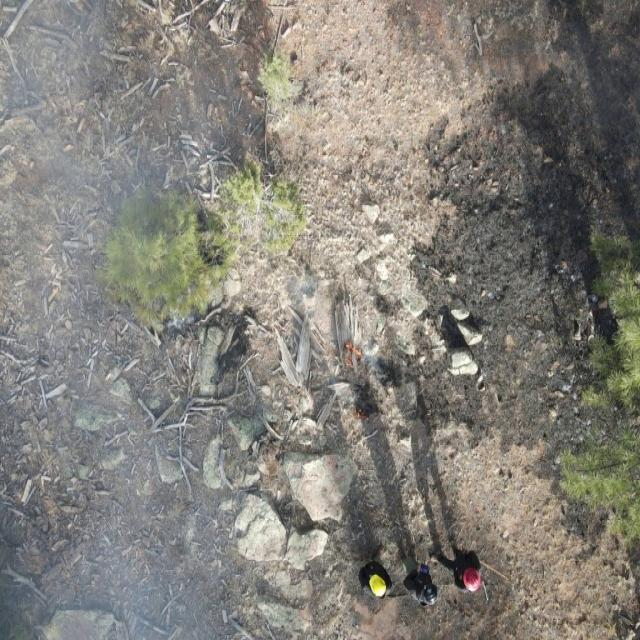fire: (341, 338, 364, 371), (350, 406, 372, 424)
smoke: (0, 249, 232, 640), (0, 2, 192, 252)
